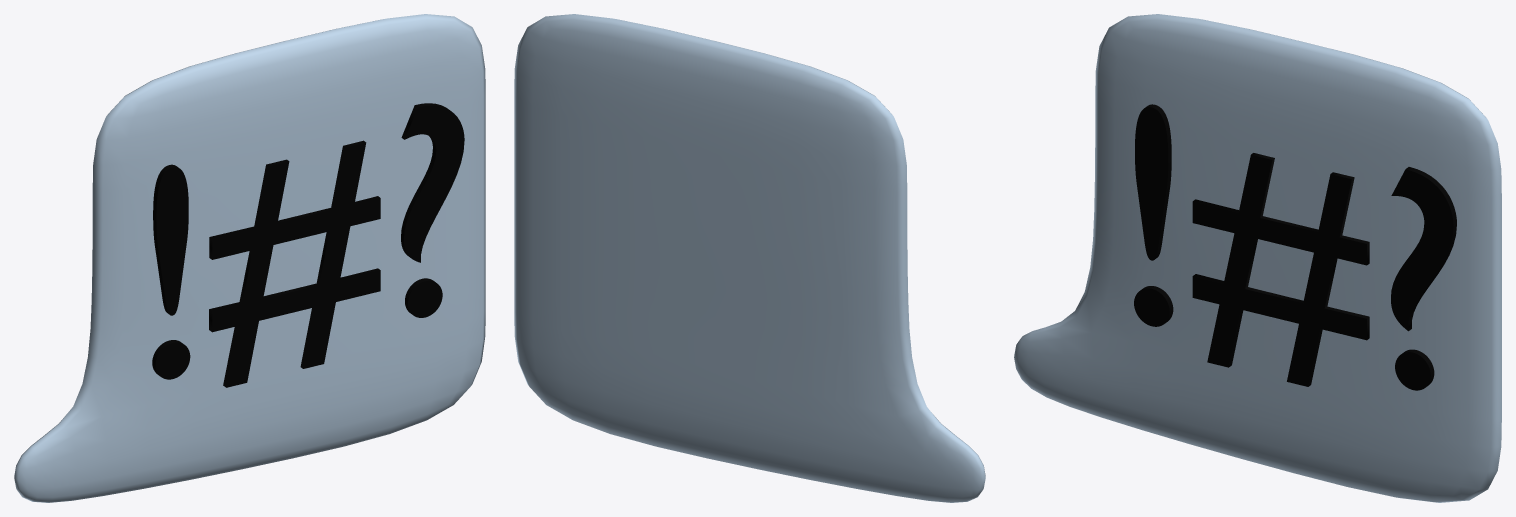
Rendered from fosh.fbx.
The picture shows the model from 3 angles, left to right: view 1: azimuth 30°, elevation 25°; view 2: azimuth 150°, elevation 25°; view 3: azimuth 330°, elevation 25°; orthographic projection. The views are drawn at different scales.
Visible parts, largest first — view 1: Cube, Text; view 2: Cube; view 3: Cube, Text.
Part boxes in pixels (left/top/right/bottom): Cube: left=14, top=14, right=485, bottom=502; Text: left=152, top=103, right=464, bottom=387; Cube: left=514, top=14, right=985, bottom=502; Cube: left=1014, top=14, right=1501, bottom=502; Text: left=1134, top=104, right=1456, bottom=390.
Size of the model in its own units: 125 by 106 by 10.53.
